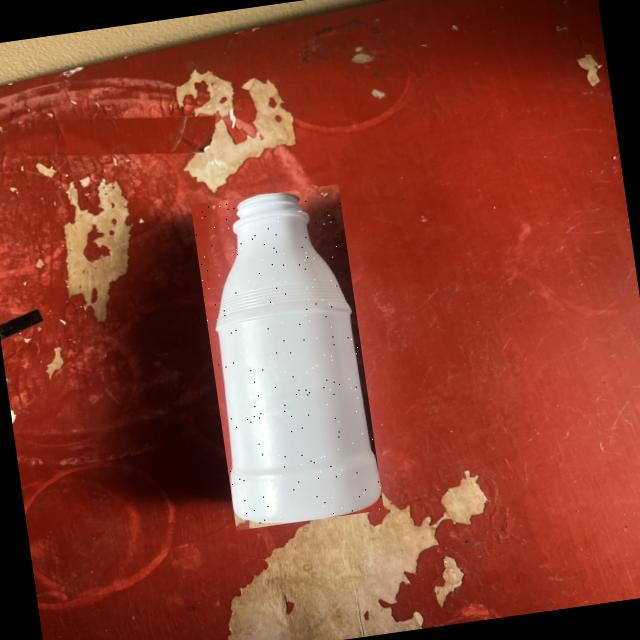HDPE_Bottle: (216, 193, 379, 523)
